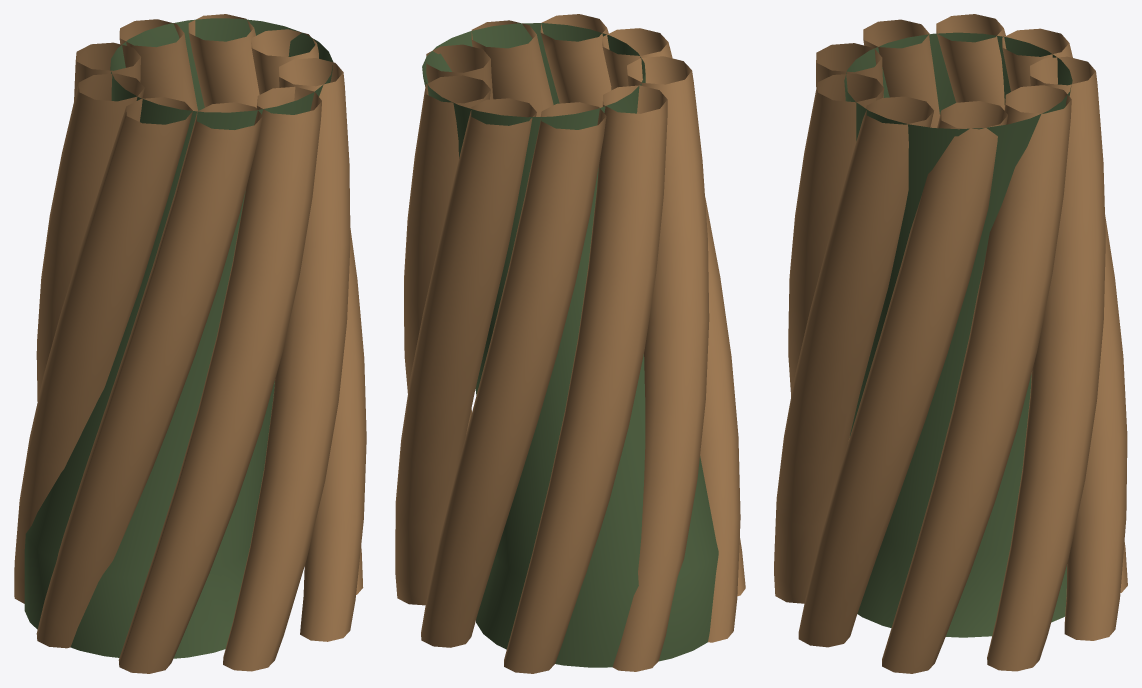
Rendered from wreck_xylo_1.glb.
3 views of the same model, side by side, from view 1: azimuth 30°, elevation 25°; view 2: azimuth 150°, elevation 25°; view 3: azimuth 270°, elevation 25° (orthographic). The views are drawn at different scales.
Visible parts, largest first — view 1: wreck_xylo_1; view 2: wreck_xylo_1; view 3: wreck_xylo_1.
Part boxes in pixels (x1,y1,x2,y2): wreck_xylo_1: (14, 14, 366, 673); wreck_xylo_1: (395, 14, 745, 673); wreck_xylo_1: (774, 14, 1127, 673).
Bounding box in the file's own units: 2.55 × 4.15 × 2.48.
